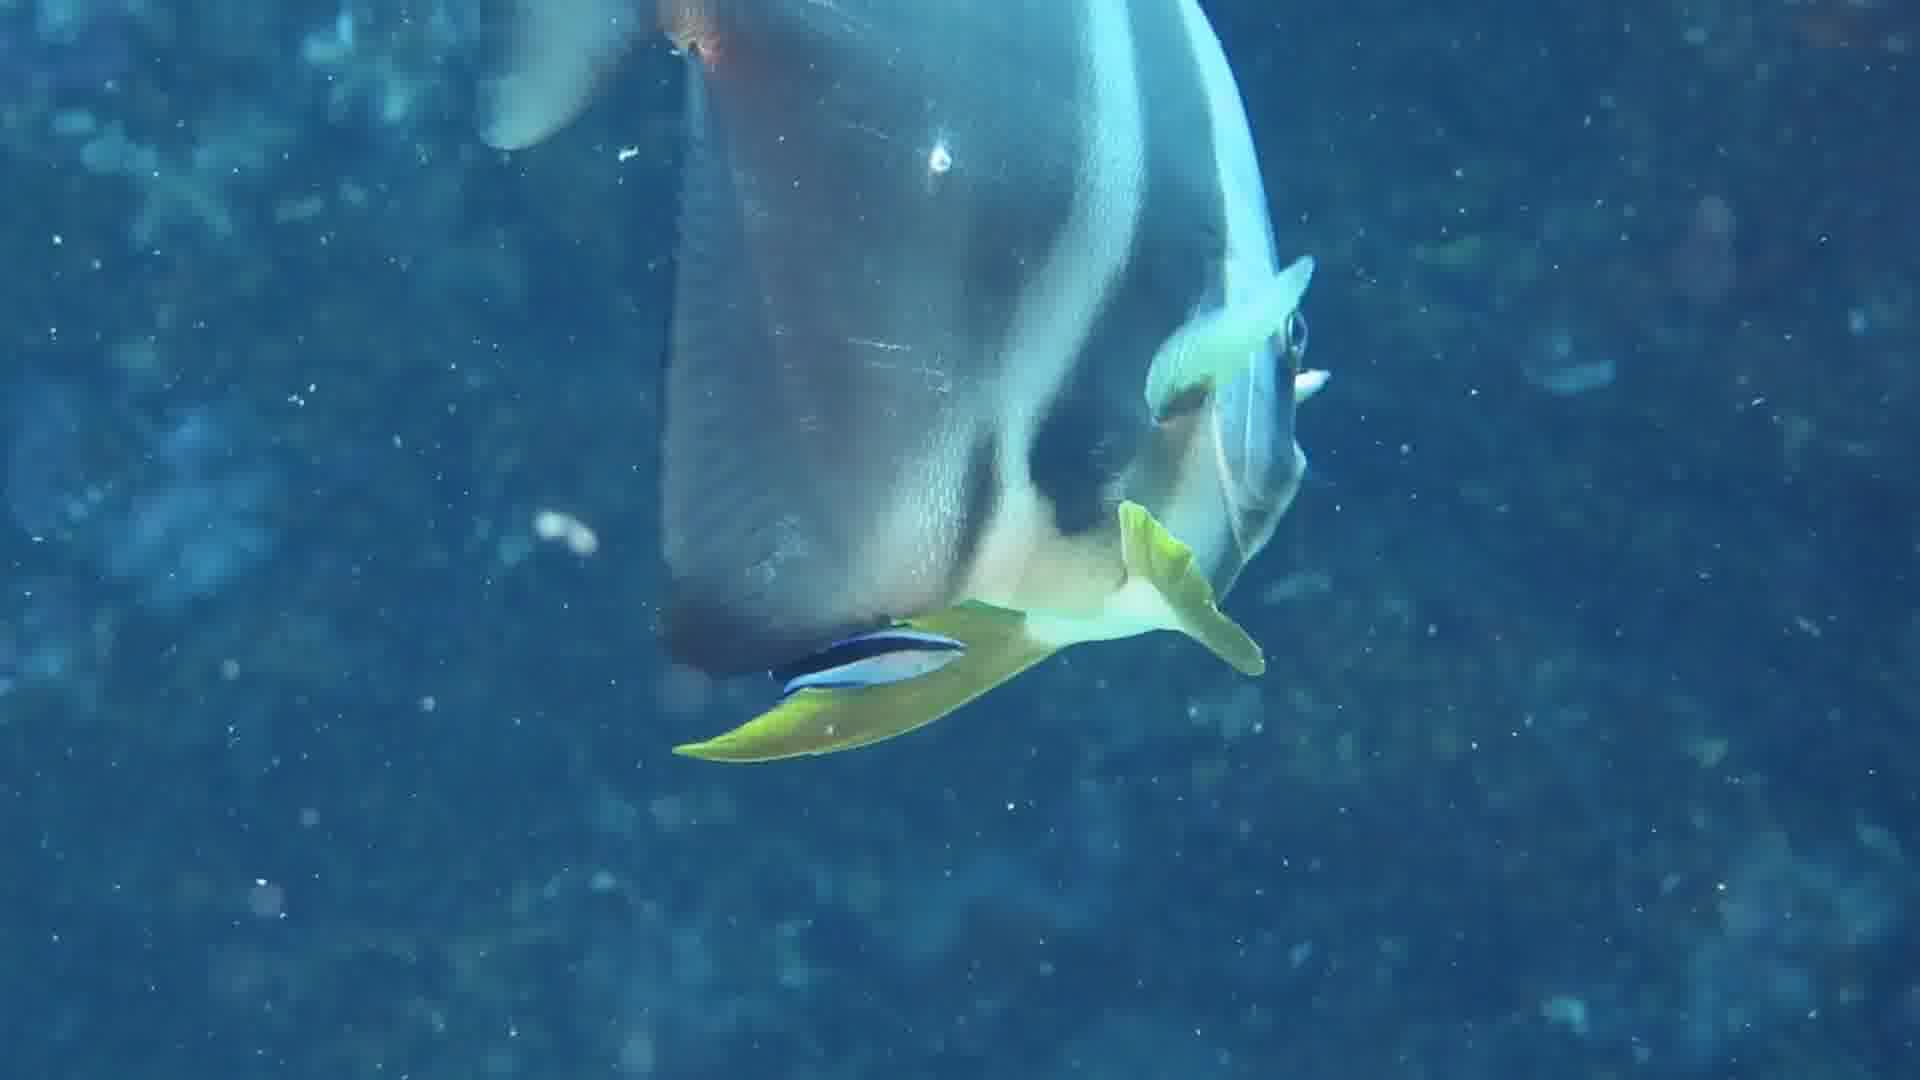Platax teira: (414, 1, 1345, 781)
